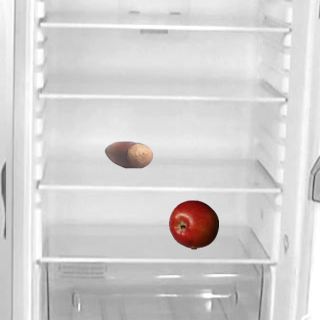Apple Braeburn: (168, 199, 218, 249)
Hazelnut: (103, 129, 153, 179)
